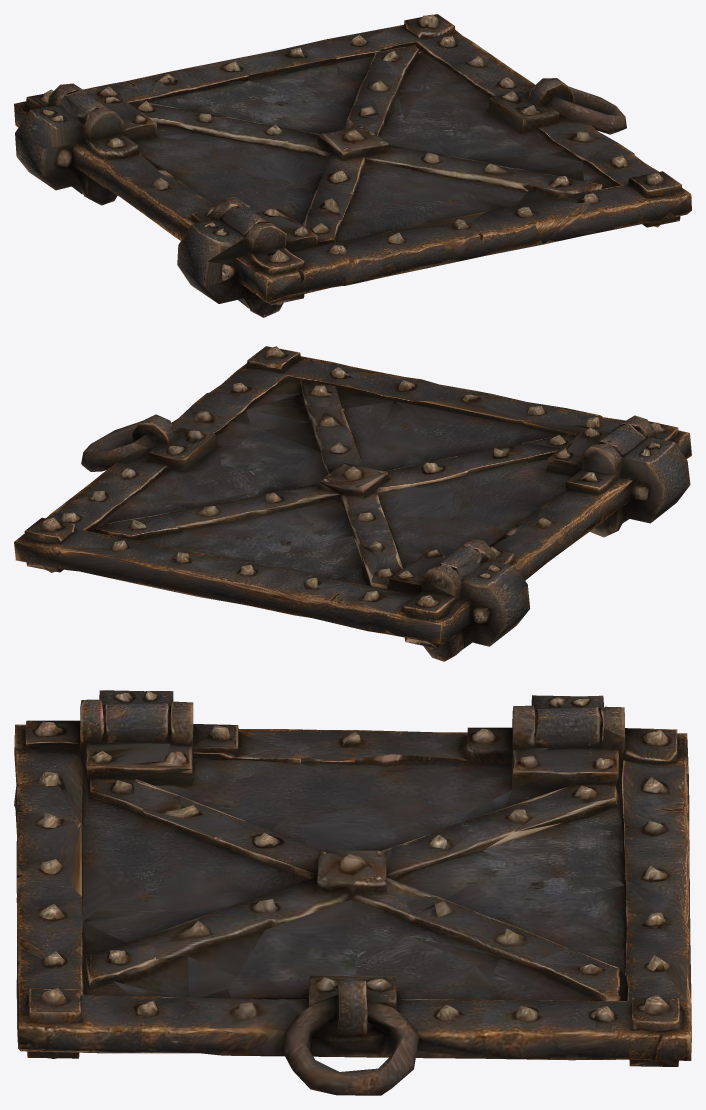
File: hatch.glb
The picture shows the model from 3 angles, top to bottom: view 1: azimuth 30°, elevation 25°; view 2: azimuth 150°, elevation 25°; view 3: azimuth 270°, elevation 25°; orthographic projection. The views are drawn at different scales.
Visible parts, largest first — view 1: hatch; view 2: hatch; view 3: hatch.
Boxes of the visible parts, x1=… form: hatch: x1=14, y1=14, x2=691, y2=317; hatch: x1=14, y1=346, x2=691, y2=661; hatch: x1=14, y1=690, x2=691, y2=1095.
Size of the model in its own units: 1.35 by 0.2447 by 1.16.
Materials: 1 (1 with a texture image).
